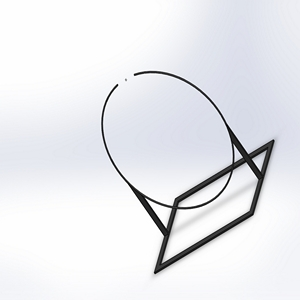circle: (99, 66, 277, 275)
